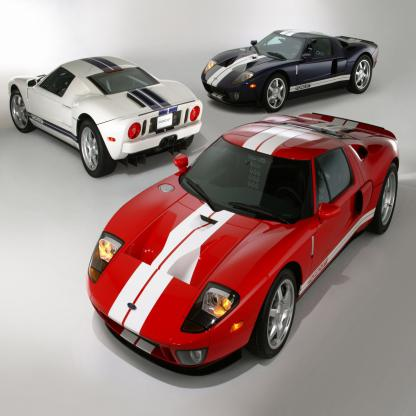Vehicle: (86, 113, 400, 378)
